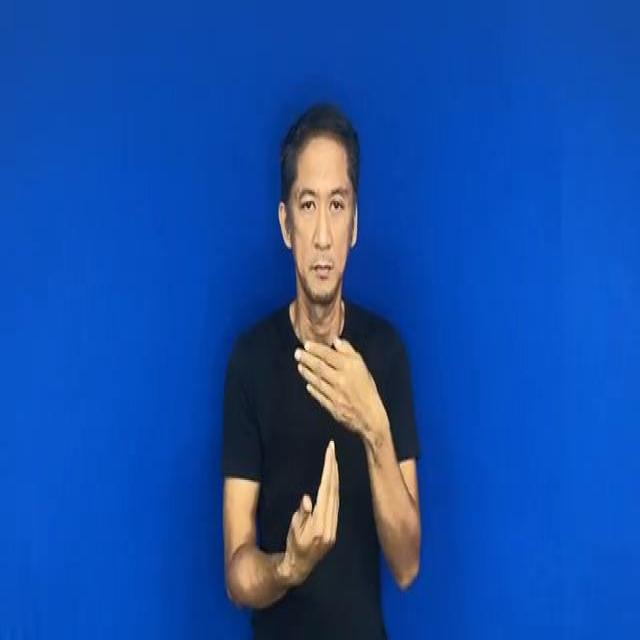bread: (291, 335, 384, 573)
